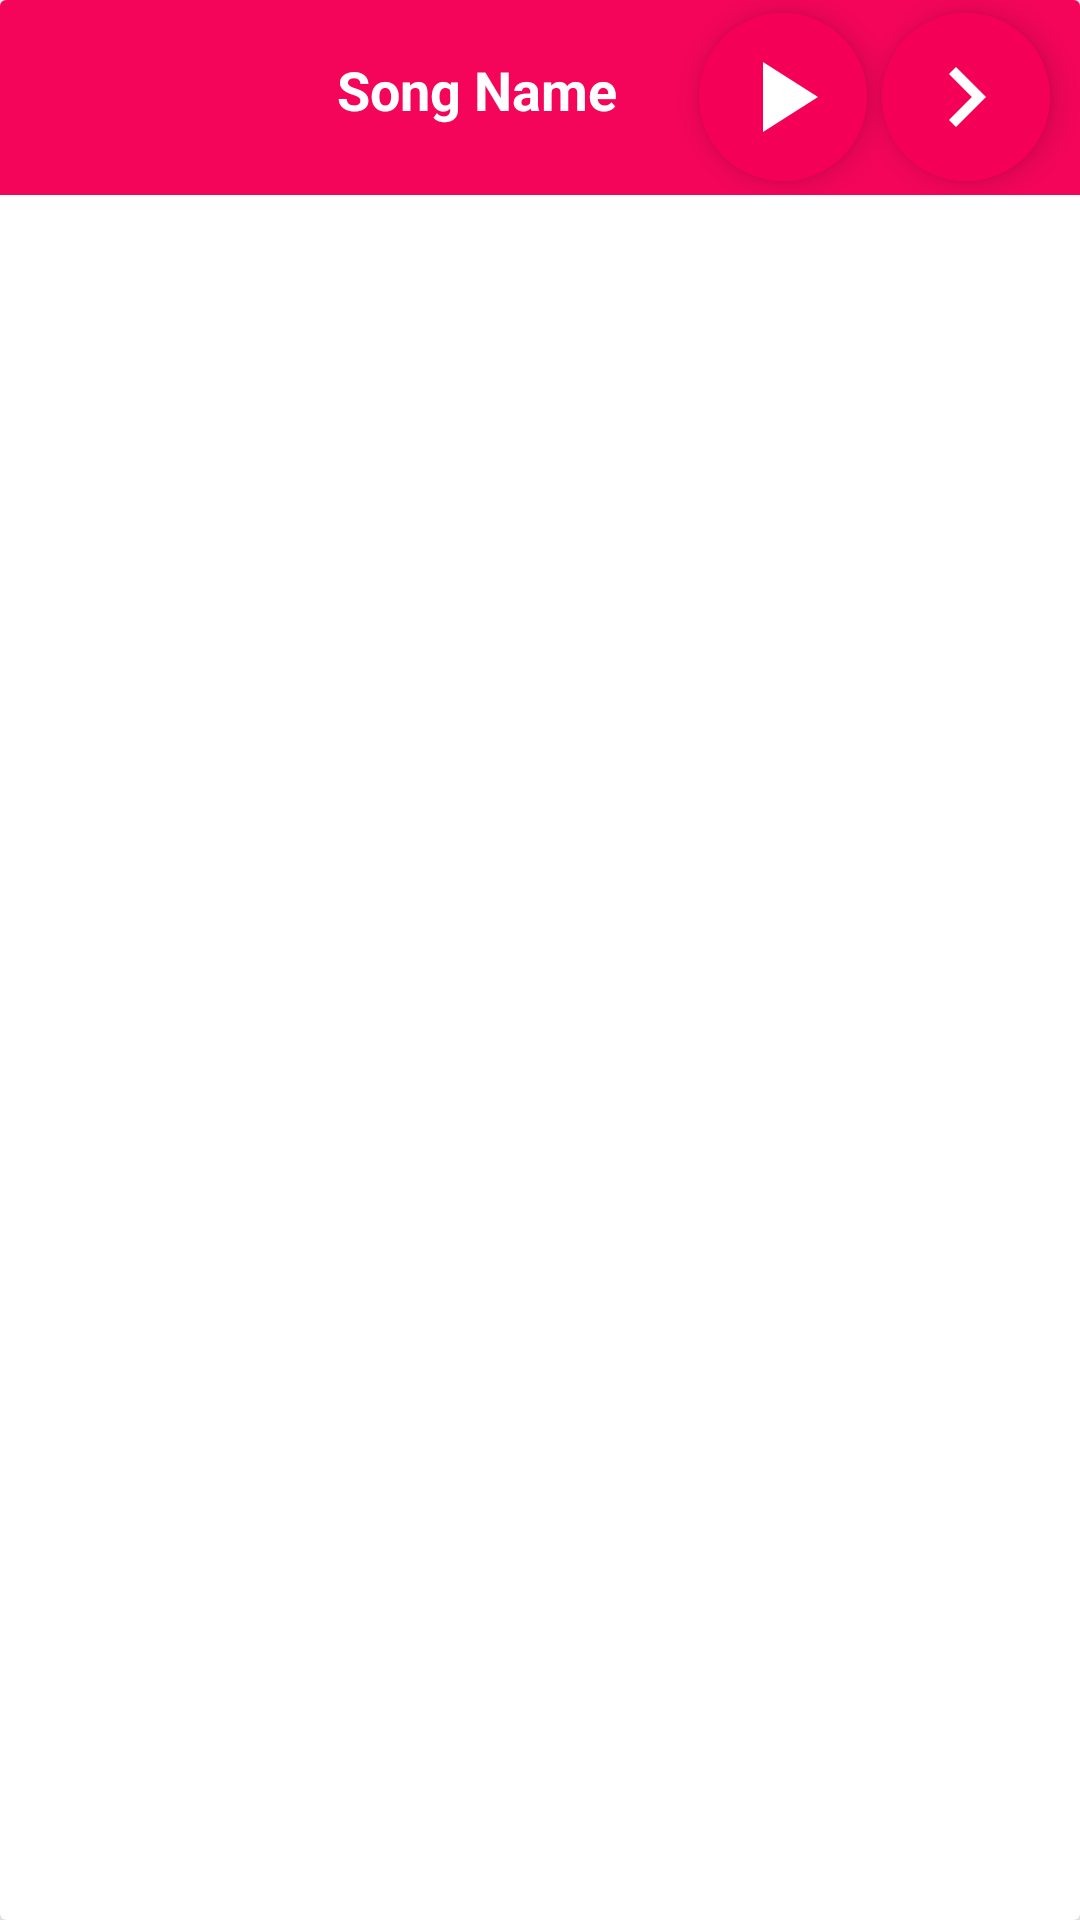

Screen size 1080 x 1920. Icon name, then its box in pixels as (x1=x1, y1=y1, x2=x2, y2=y2):
next: (x1=949, y1=23, x2=1050, y2=181)
play arrow: (x1=763, y1=58, x2=867, y2=179)
